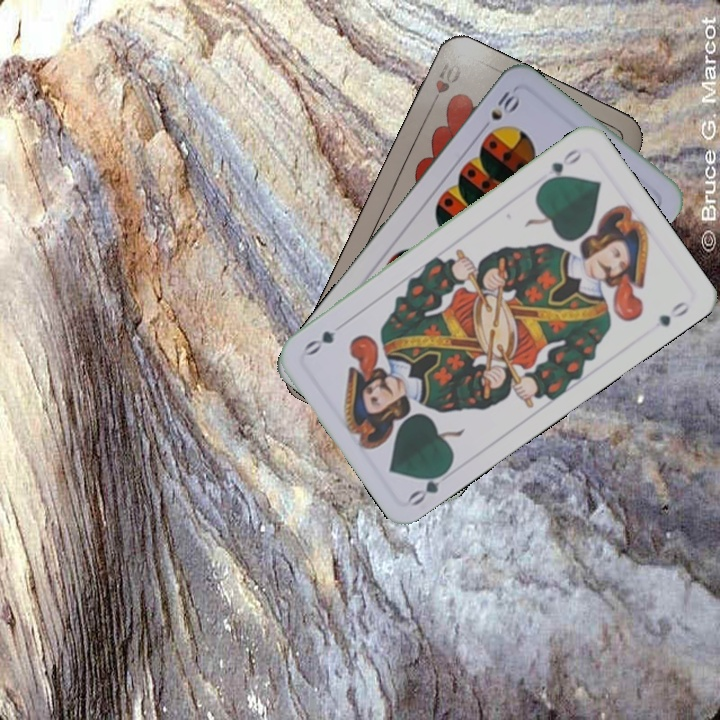GO: (404, 462, 458, 509), (537, 144, 584, 188)
H10: (426, 55, 464, 111)
S10: (476, 85, 522, 135)
